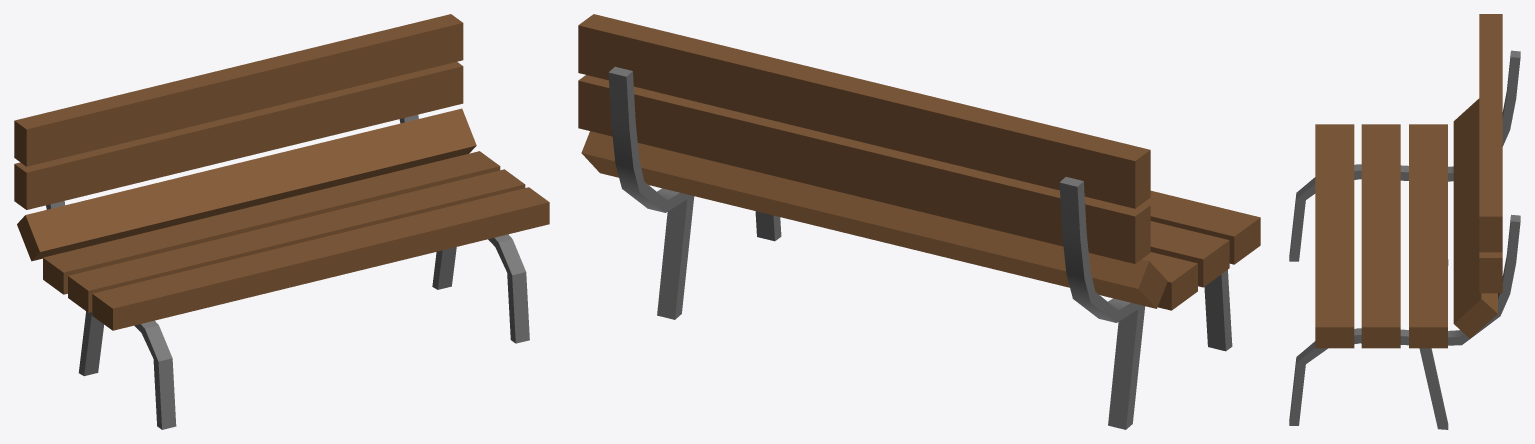
The model's file is Banca.fbx.
3 renders of one model, left to right at view 1: azimuth 30°, elevation 25°; view 2: azimuth 150°, elevation 25°; view 3: azimuth 270°, elevation 25°, orthographic. The views are drawn at different scales.
Visible parts, largest first — view 1: polySurface8, polySurface6, polySurface7, polySurface3, polySurface5, polySurface4, polySurface1, polySurface2; view 2: polySurface8, polySurface7, polySurface6, polySurface1, polySurface2, polySurface3, polySurface4, polySurface5; view 3: polySurface3, polySurface4, polySurface5, polySurface6, polySurface8, polySurface2, polySurface1, polySurface7.
Part boxes in pixels (x1=…): polySurface8: x1=14, y1=14, x2=463, y2=166; polySurface6: x1=17, y1=108, x2=476, y2=261; polySurface7: x1=14, y1=62, x2=463, y2=209; polySurface3: x1=92, y1=187, x2=549, y2=330; polySurface5: x1=43, y1=151, x2=500, y2=294; polySurface4: x1=68, y1=169, x2=525, y2=312; polySurface1: x1=46, y1=201, x2=176, y2=429; polySurface2: x1=399, y1=114, x2=529, y2=343; polySurface8: x1=578, y1=14, x2=1150, y2=208; polySurface7: x1=578, y1=75, x2=1150, y2=263; polySurface6: x1=581, y1=131, x2=1167, y2=308; polySurface1: x1=1059, y1=177, x2=1232, y2=429; polySurface2: x1=608, y1=66, x2=781, y2=319; polySurface3: x1=1143, y1=190, x2=1260, y2=264; polySurface4: x1=1150, y1=221, x2=1229, y2=287; polySurface5: x1=1142, y1=252, x2=1197, y2=310; polySurface3: x1=1315, y1=124, x2=1354, y2=348; polySurface4: x1=1361, y1=124, x2=1400, y2=348; polySurface5: x1=1409, y1=124, x2=1447, y2=348; polySurface6: x1=1453, y1=98, x2=1497, y2=338; polySurface8: x1=1479, y1=14, x2=1502, y2=252; polySurface2: x1=1289, y1=214, x2=1520, y2=429; polySurface1: x1=1289, y1=50, x2=1520, y2=265; polySurface7: x1=1479, y1=252, x2=1502, y2=293.
Bounding box in the file's own units: 4.4 × 2.31 × 2.12.
